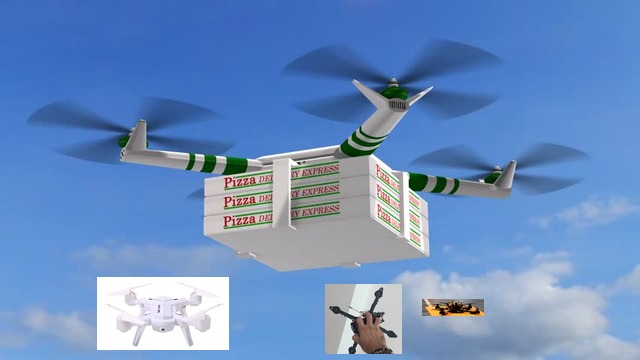drone: (26, 37, 590, 273), (97, 277, 229, 350), (325, 284, 402, 354), (422, 299, 484, 316)
